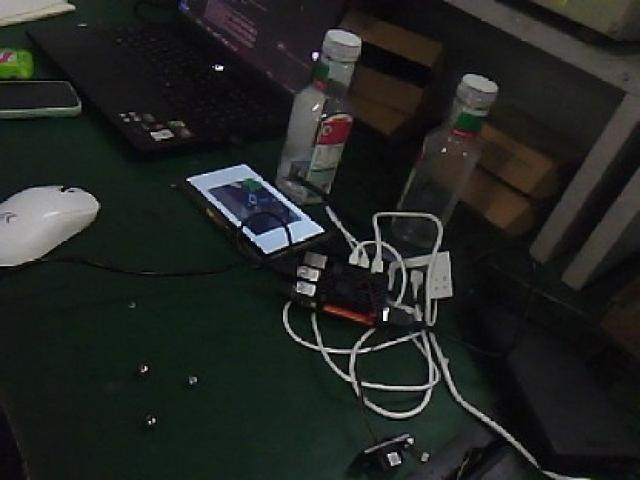steel-ball: (123, 400, 163, 435), (121, 354, 152, 389), (180, 361, 208, 392)
